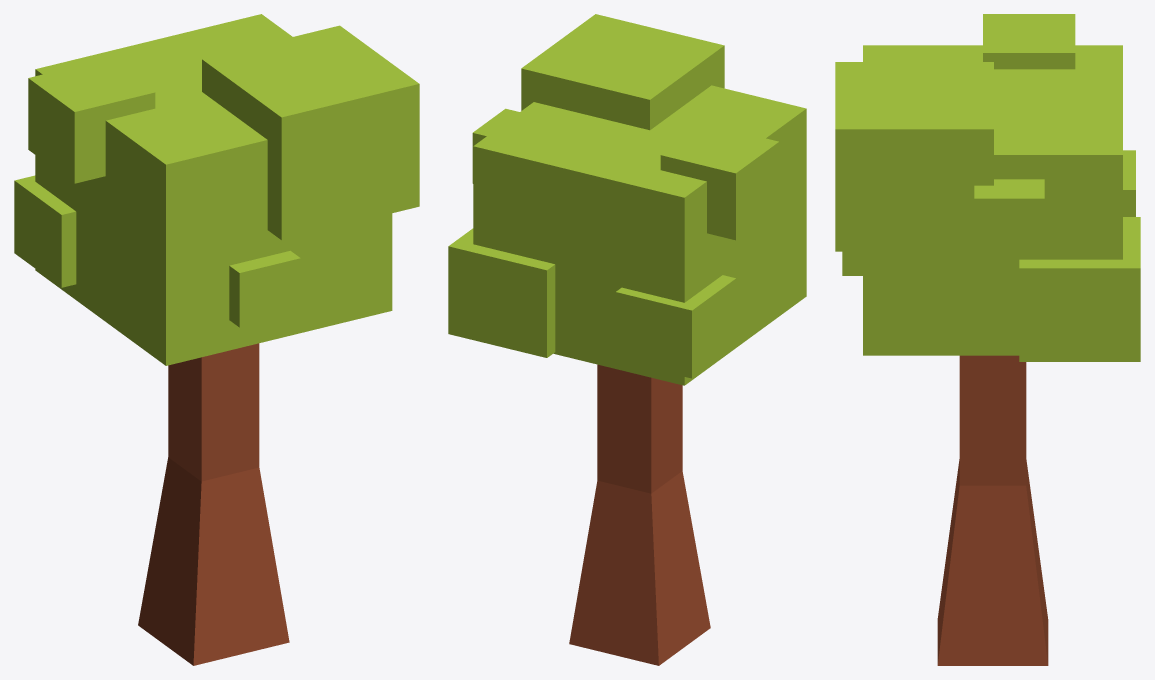
File: Three3.fbx
3 views of the same model, side by side, from view 1: azimuth 30°, elevation 25°; view 2: azimuth 150°, elevation 25°; view 3: azimuth 270°, elevation 25° (orthographic). The views are drawn at different scales.
Visible parts, largest first — view 1: Cube.010; view 2: Cube.010; view 3: Cube.010.
Part boxes in pixels (x1,y1,x2,y2): Cube.010: (14, 14, 419, 665); Cube.010: (448, 14, 806, 665); Cube.010: (835, 14, 1140, 665).
Size of the model in its own units: 6.14 by 11.38 by 5.48.
